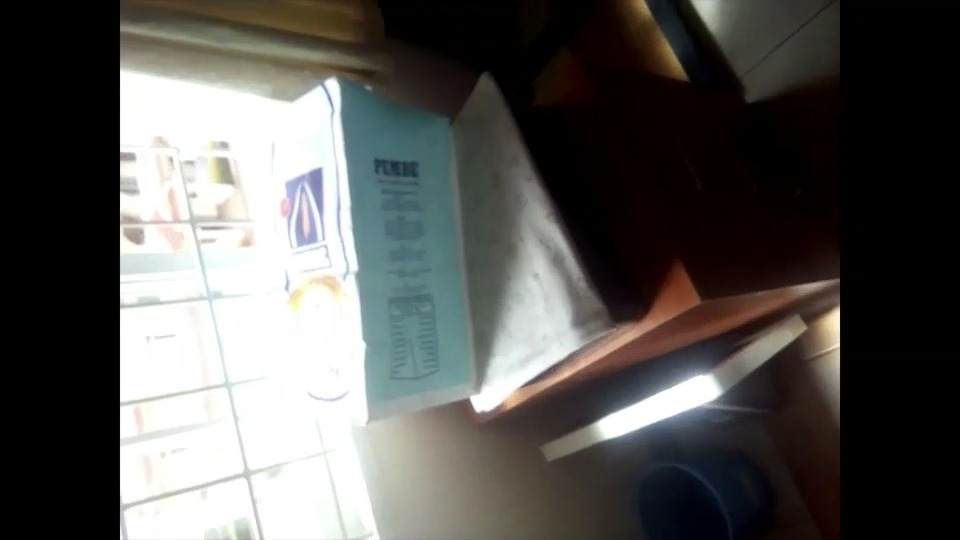wheat_flour_blue_label: (266, 77, 479, 419)
